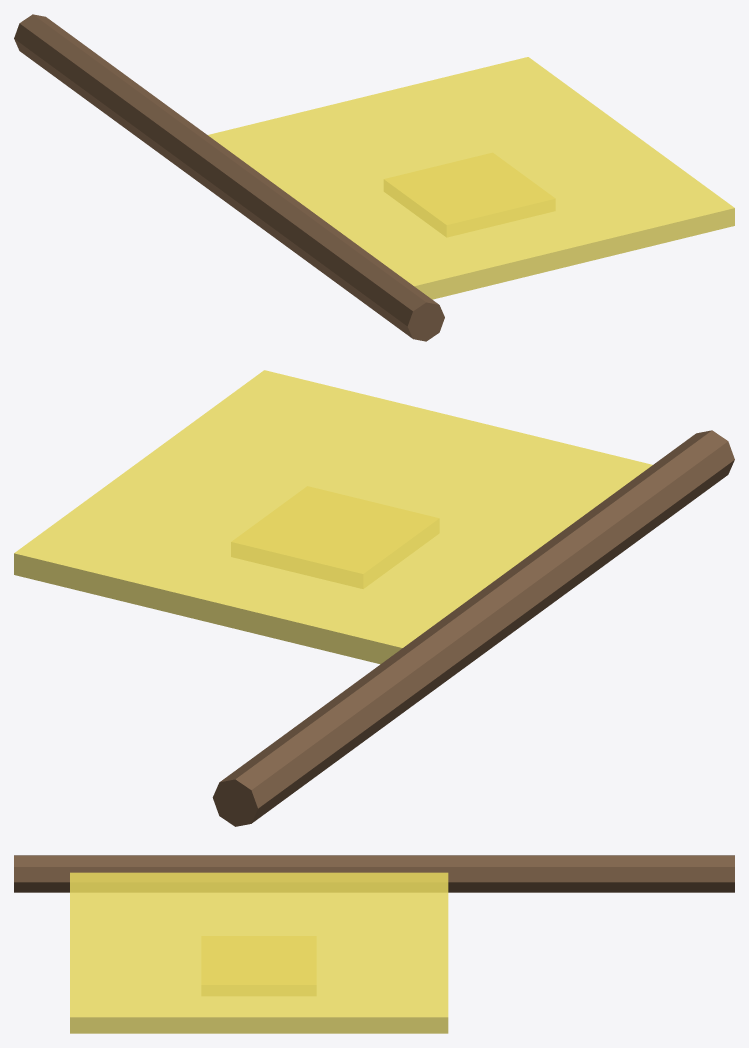
File: sanctuary_leaf_banner.glb
3 views of the same model, one above another, from view 1: azimuth 30°, elevation 25°; view 2: azimuth 150°, elevation 25°; view 3: azimuth 270°, elevation 25° (orthographic). The views are drawn at different scales.
Parts seen in each view (by area): view 1: banner_cloth, banner_pole; view 2: banner_cloth, banner_pole; view 3: banner_cloth, banner_pole.
Boxes of the visible parts, <box> form: banner_cloth: <box>208,57,734,299</box>; banner_pole: <box>14,14,444,341</box>; banner_cloth: <box>14,370,652,664</box>; banner_pole: <box>212,430,734,826</box>; banner_cloth: <box>70,872,448,1033</box>; banner_pole: <box>14,855,734,892</box>.
Size of the model in its own units: 1.05 by 0.1125 by 2.
